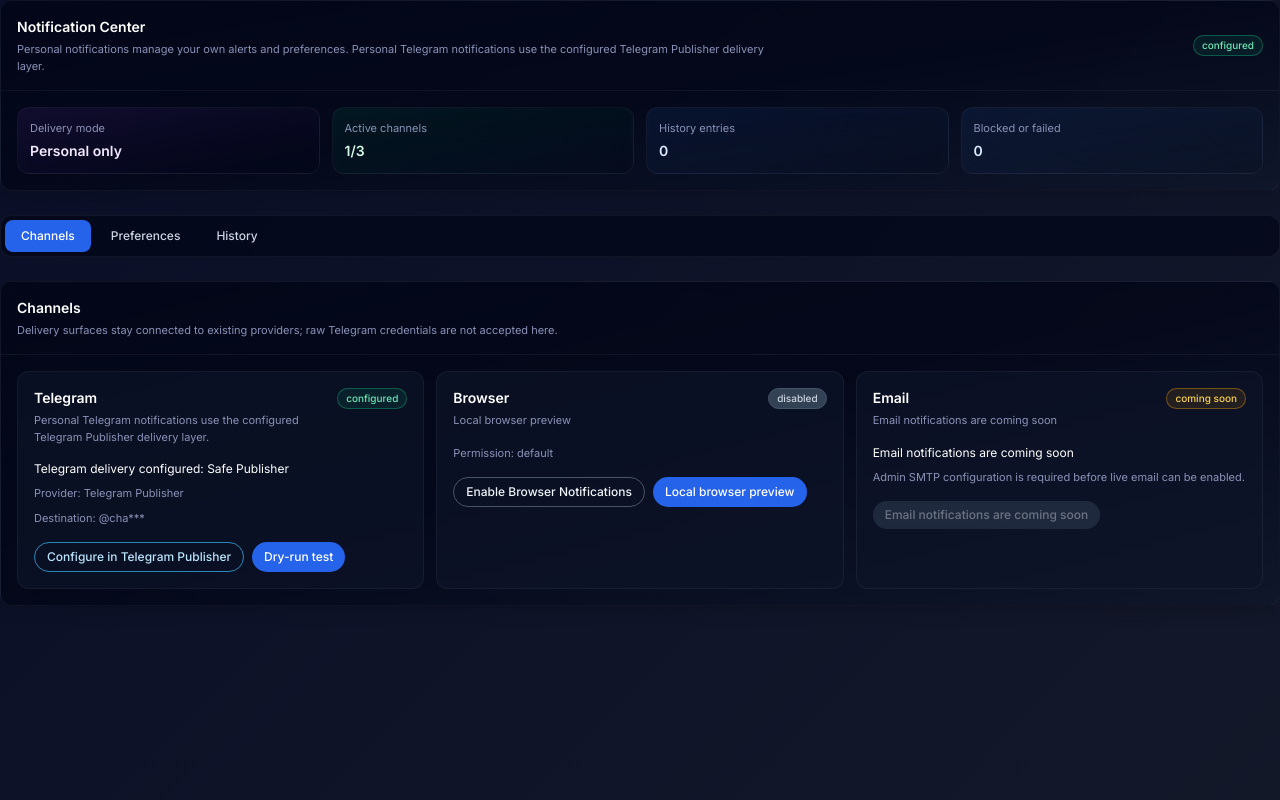
NotificationsSettings unified center › browser channel persistence › does not persist when permission stays default
The image size is (1280, 800).
Expected: the heading "Browser" is shown, [453,389,509,406]
Click the button "Enable Browser Notifications" at (549, 492), box [453,477,645,507]
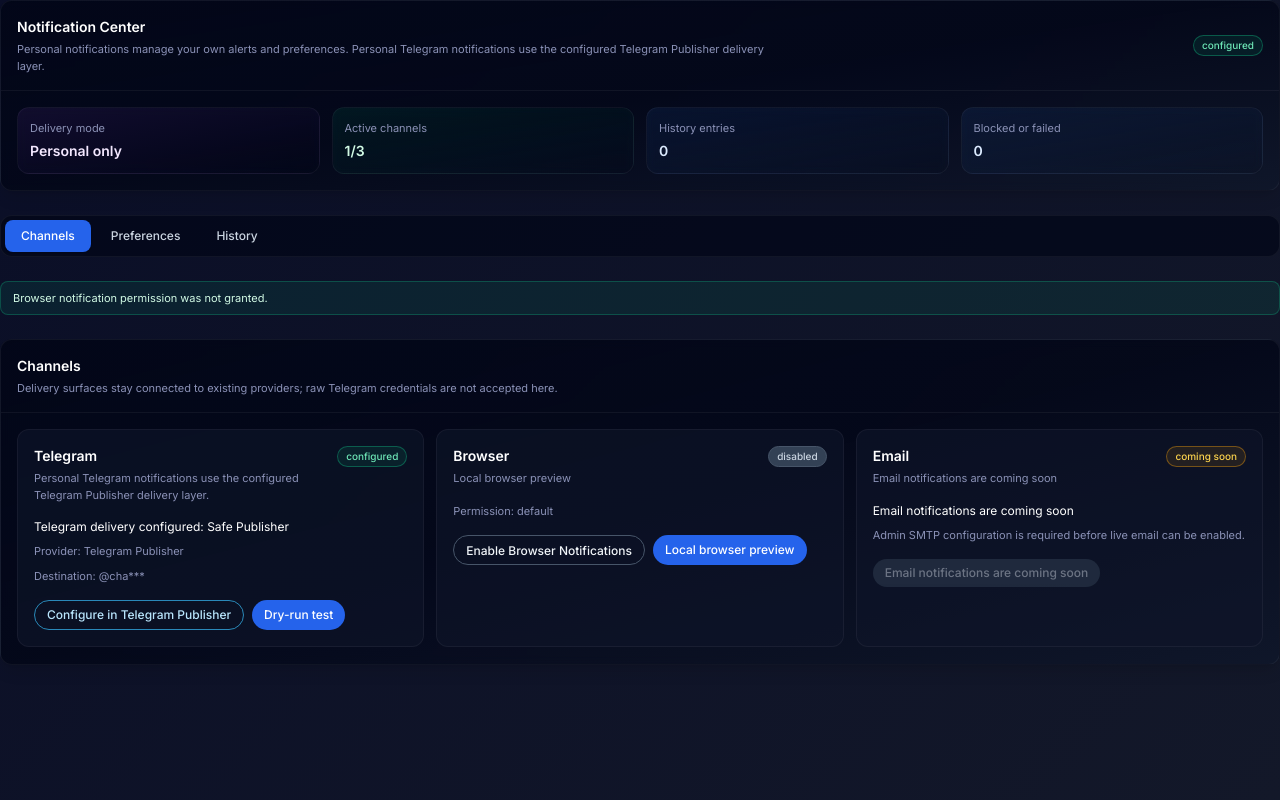
Result: the text "Browser notification permission was not granted." is shown at [0,280,1279,315]
